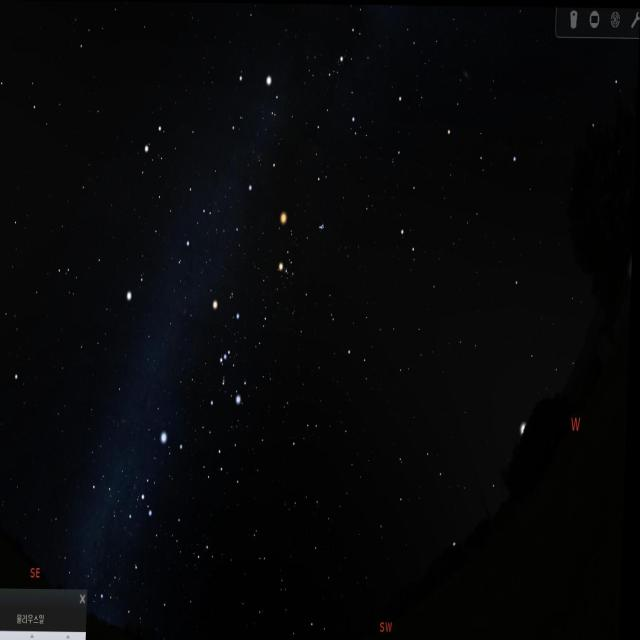canis_major: (131, 411, 187, 520)
canis_minor: (128, 269, 150, 311)
gemini: (141, 114, 222, 263)
orion: (202, 300, 253, 416)
pleiades: (316, 220, 332, 238)
taurus: (272, 209, 337, 301)
